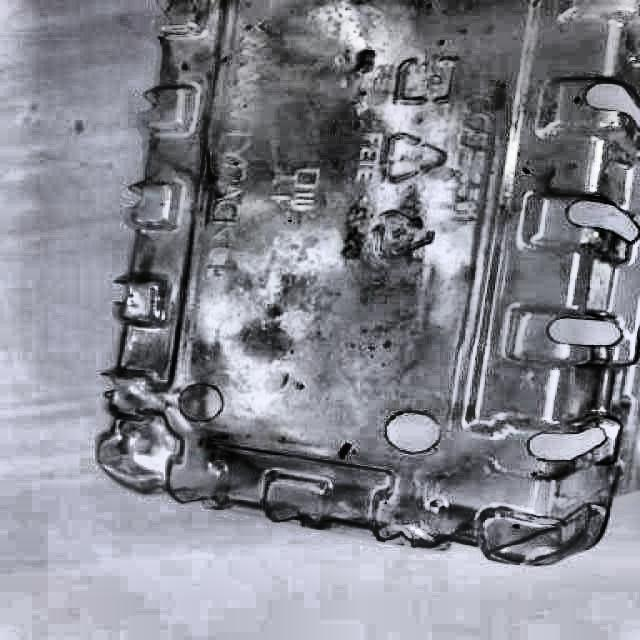plastic: (99, 0, 640, 564)
